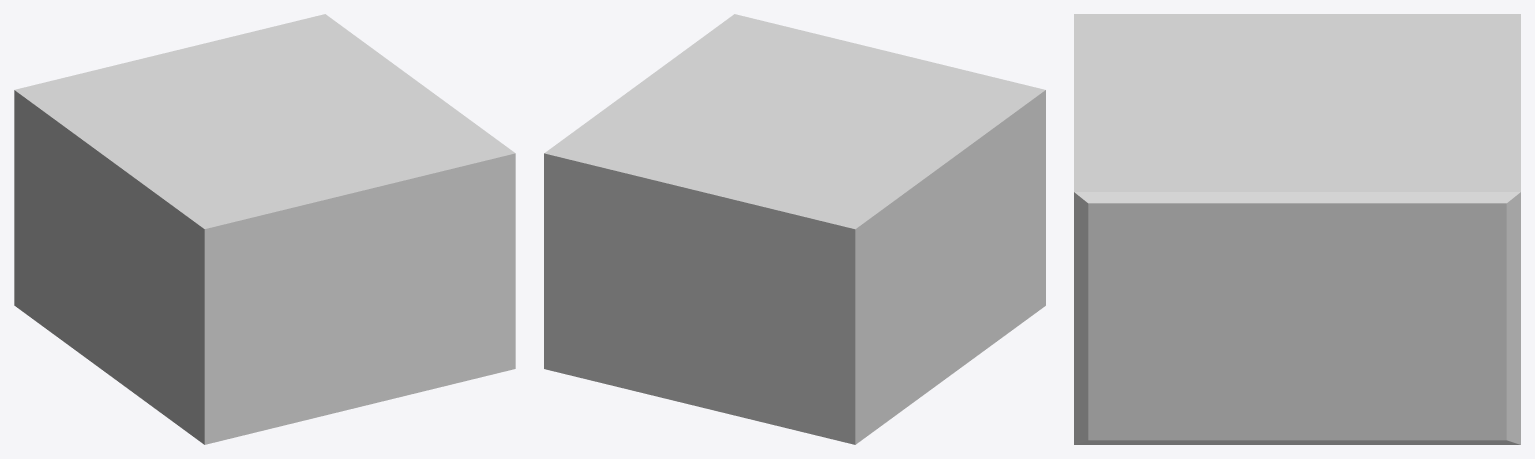
The model's file is Itr_Couch_Inside_Seat_Left_06.FBX.
3 renders of one model, left to right at view 1: azimuth 30°, elevation 25°; view 2: azimuth 150°, elevation 25°; view 3: azimuth 270°, elevation 25°, orthographic. The views are drawn at different scales.
Visible parts, largest first — view 1: Itr_Couch_Inside_Seat_Left_06; view 2: Itr_Couch_Inside_Seat_Left_06; view 3: Itr_Couch_Inside_Seat_Left_06.
Boxes of the visible parts, x1,y1,x2,y2 form: Itr_Couch_Inside_Seat_Left_06: [14, 14, 515, 444]; Itr_Couch_Inside_Seat_Left_06: [544, 14, 1045, 444]; Itr_Couch_Inside_Seat_Left_06: [1074, 14, 1520, 444].
Bounding box in the file's own units: 18.92 × 12.3 × 19.68.
